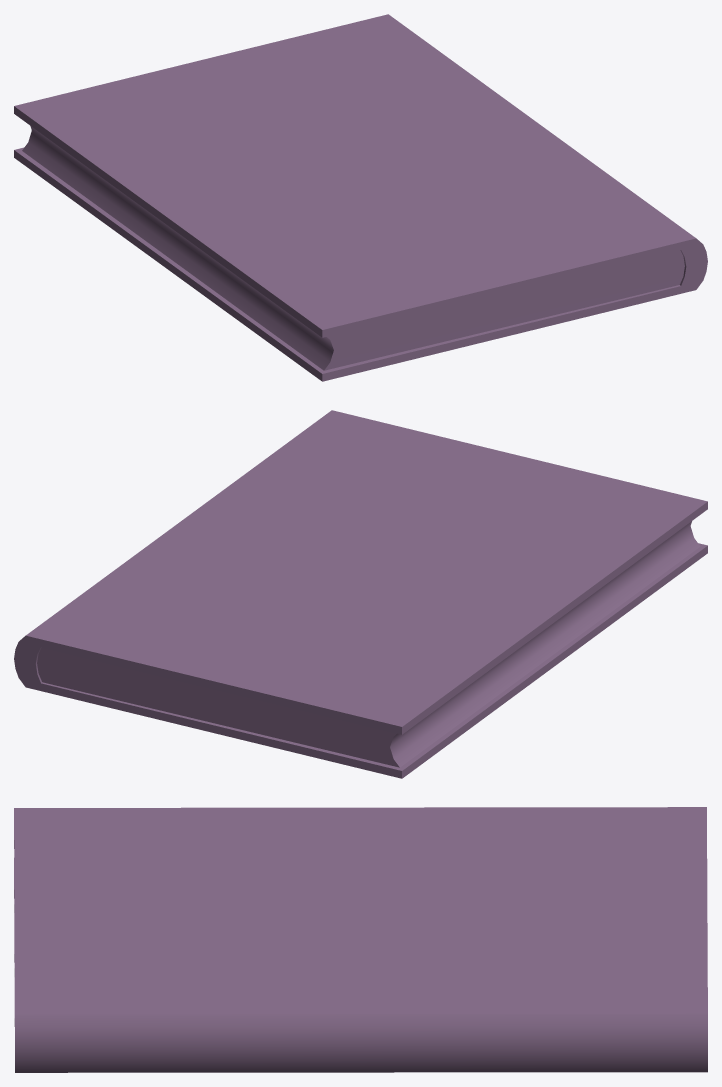
File: CompositionBook.fbx
3 renders of one model, top to bottom at view 1: azimuth 30°, elevation 25°; view 2: azimuth 150°, elevation 25°; view 3: azimuth 270°, elevation 25°, orthographic. The views are drawn at different scales.
Visible parts, largest first — view 1: Composition_Book; view 2: Composition_Book; view 3: Composition_Book.
Boxes of the visible parts, bbox=[...] form: Composition_Book: bbox=[14, 14, 707, 381]; Composition_Book: bbox=[14, 410, 707, 778]; Composition_Book: bbox=[14, 807, 707, 1072].
Bounding box in the file's own units: 74 × 9.42 × 102.
